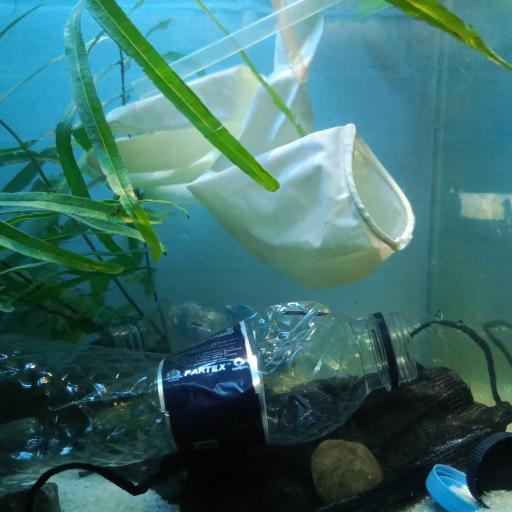bottle_cap: (465, 430, 512, 508), (427, 463, 478, 512)
glove: (84, 0, 417, 289)
mask: (27, 316, 512, 512)
plastic_bottle: (0, 298, 415, 488), (103, 296, 273, 357)
plastic_straw: (127, 0, 337, 93), (271, 0, 310, 86)
